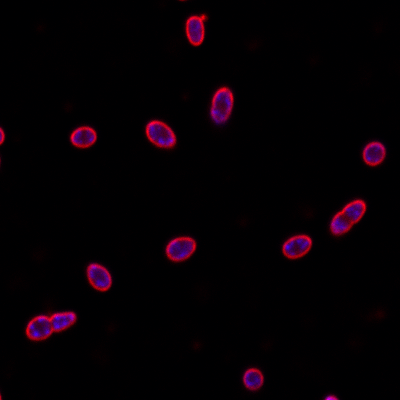Mecillinam: (25, 311, 77, 341), (144, 120, 177, 150), (280, 234, 313, 261), (165, 236, 197, 263), (86, 261, 113, 293), (69, 126, 98, 149), (185, 15, 206, 46), (361, 141, 386, 166), (242, 368, 264, 391)
Oblique: (330, 199, 365, 236), (209, 86, 234, 127)
